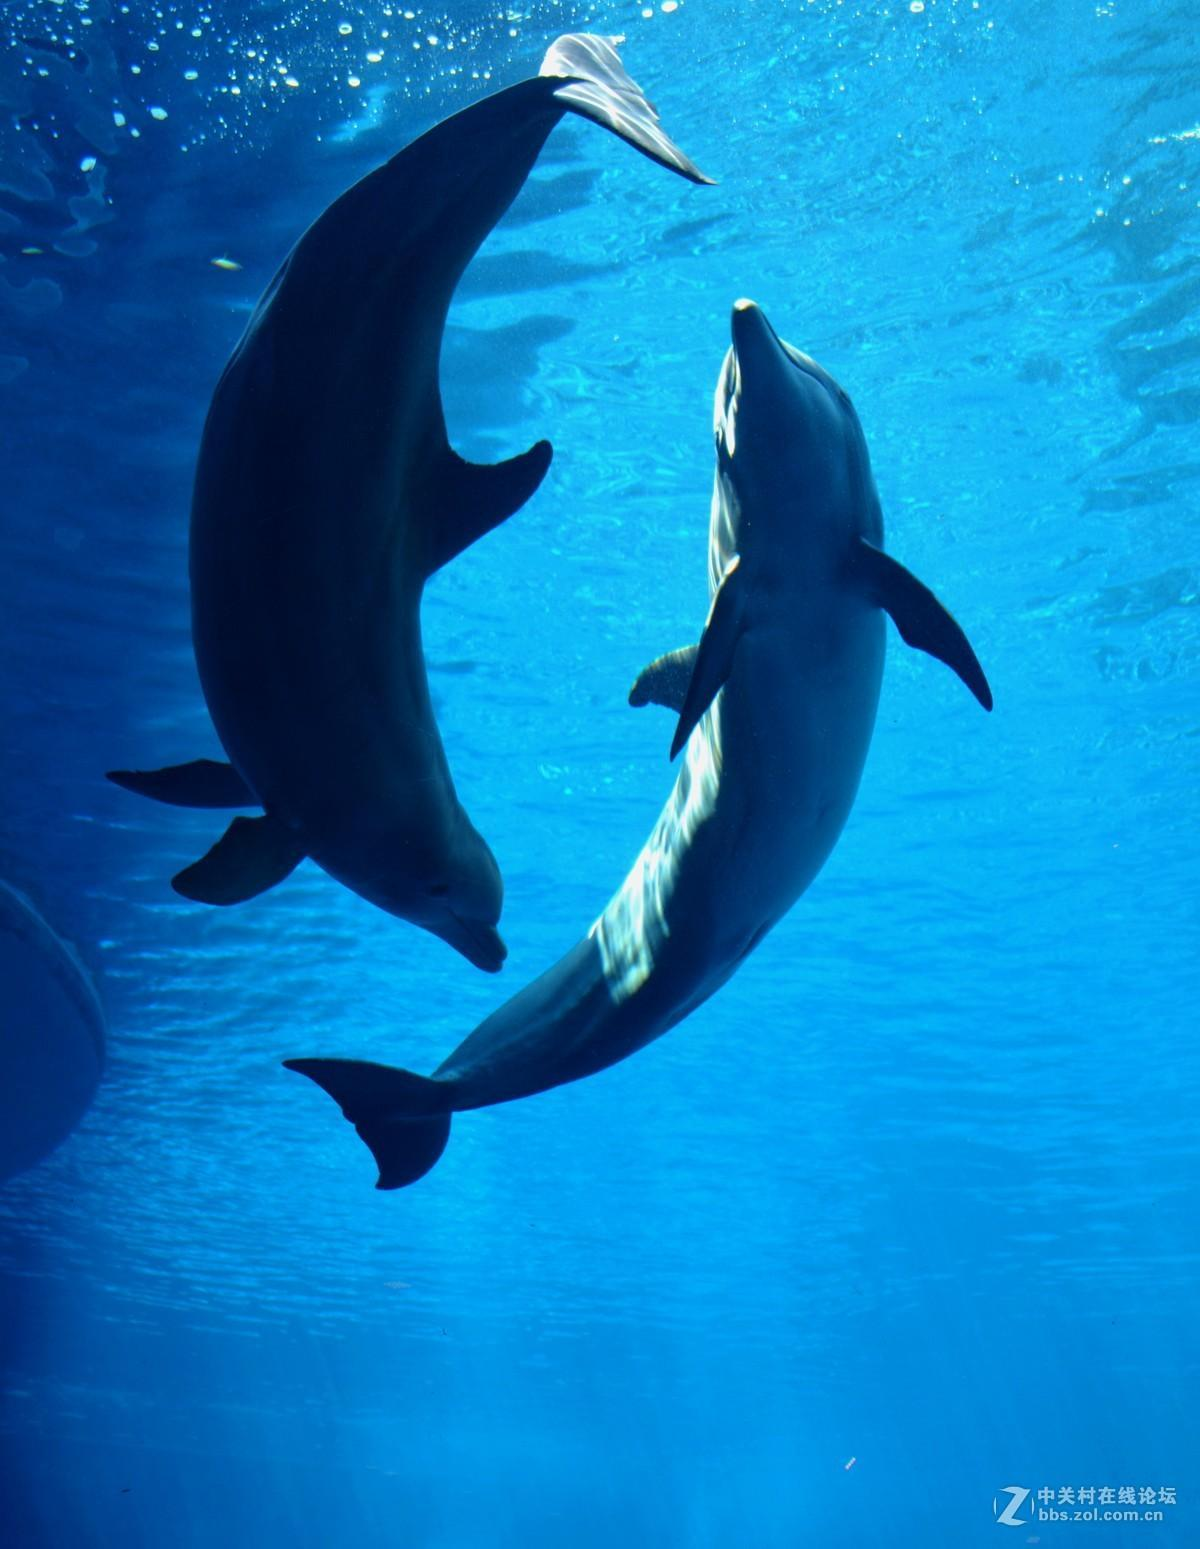fish: (277, 287, 996, 1192), (114, 31, 711, 969)
